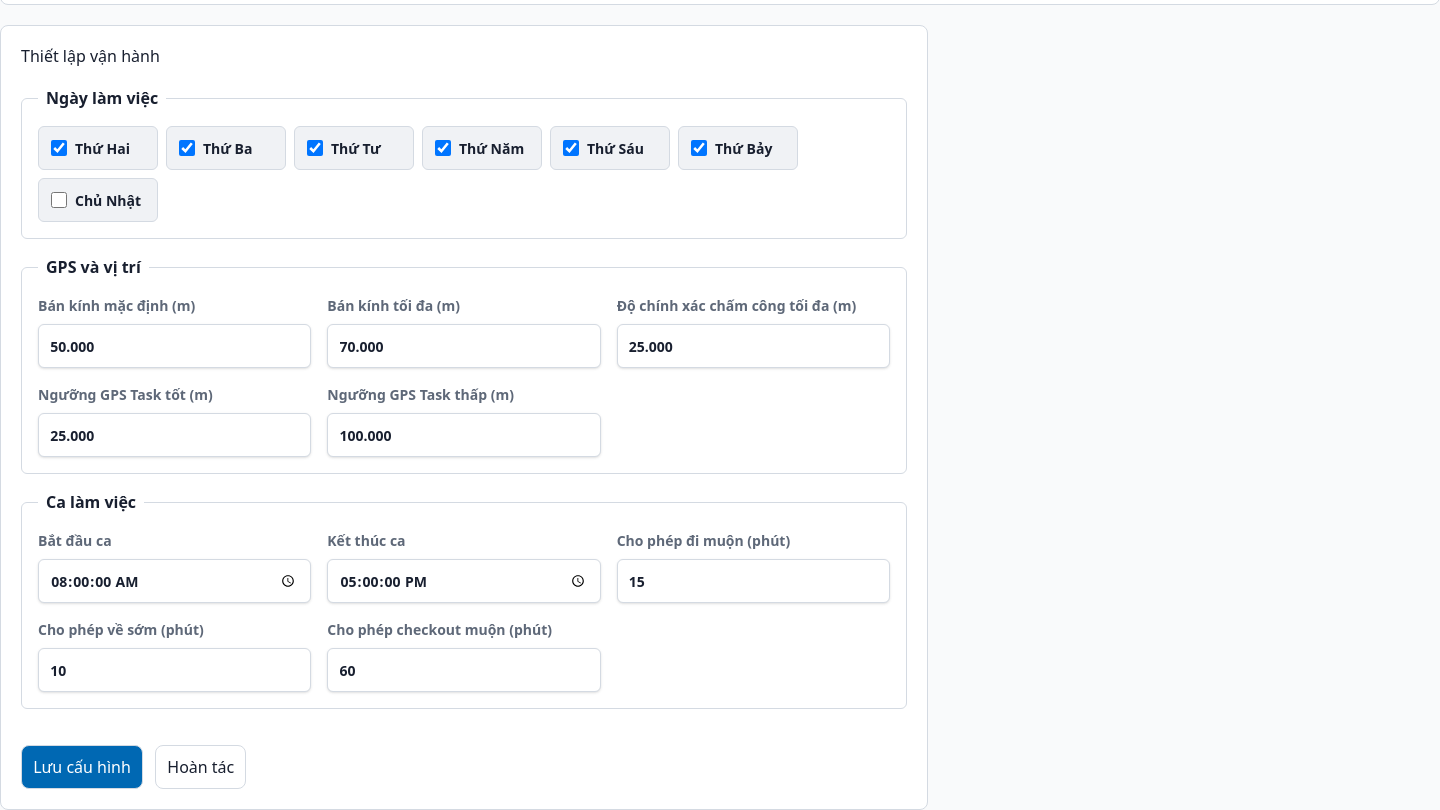
ConfigEditor › does not claim a save when the Config draft is unchanged
The width and height of the screenshot is (1440, 810).
(page scrolled)
Click the button "Lưu cấu hình": [82, 767] box [21,745,143,789]
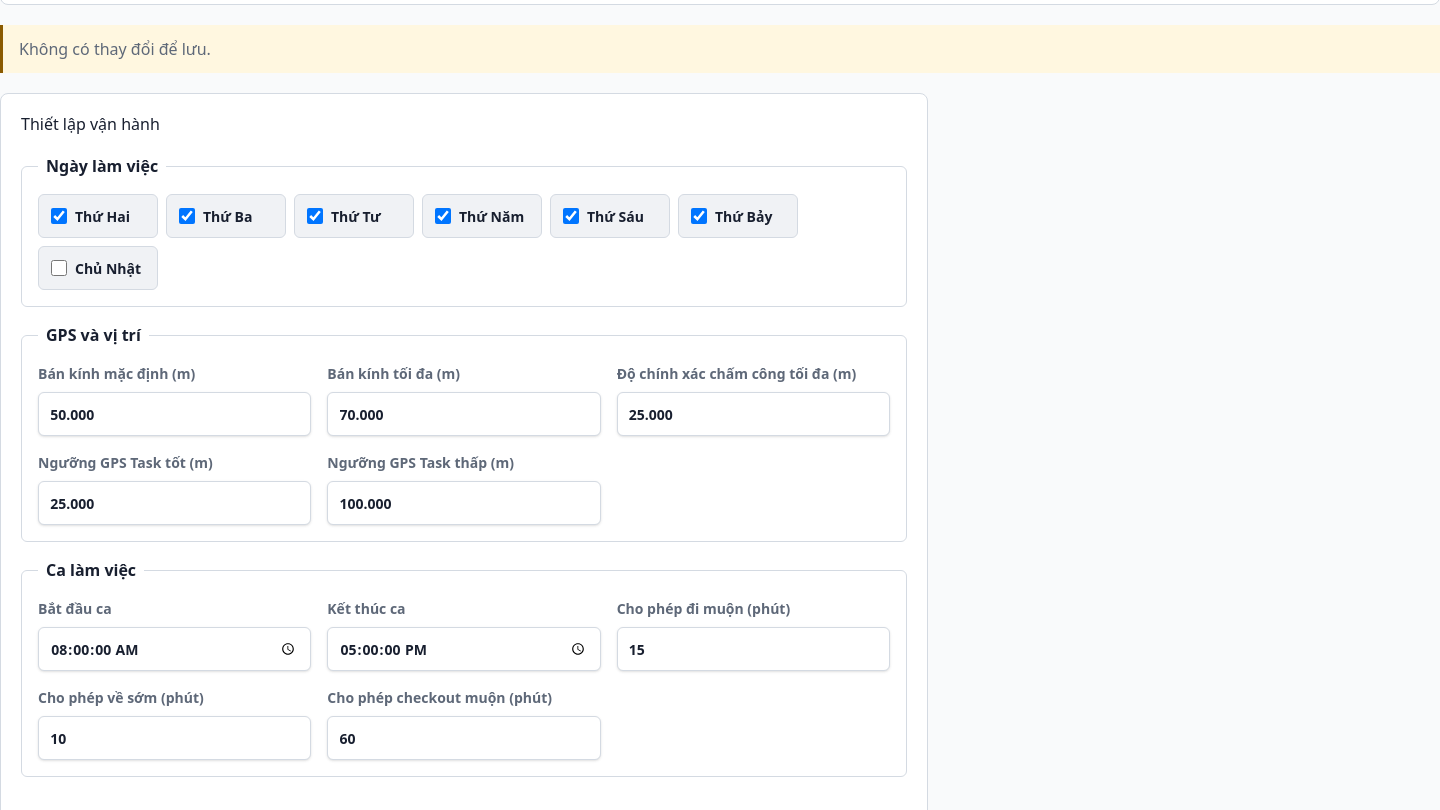
Expected: the message shows "Không có thay đổi", [19,38,211,60]
